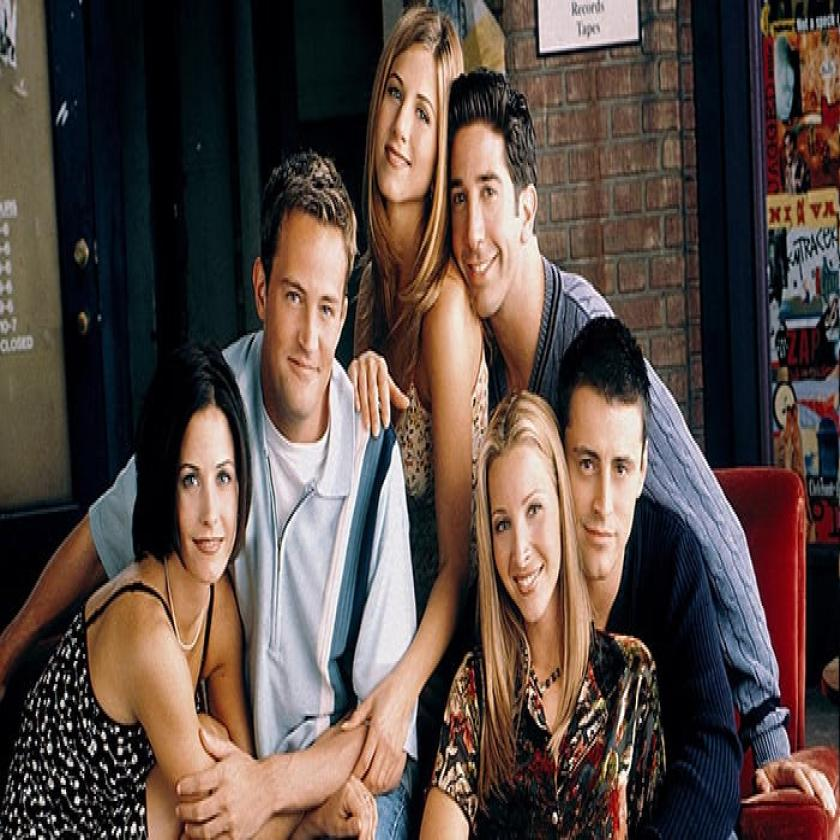Sin_casco: (252, 140, 365, 455), (138, 321, 254, 622), (474, 377, 577, 690), (553, 313, 658, 603), (444, 60, 548, 344), (373, 4, 469, 255)
